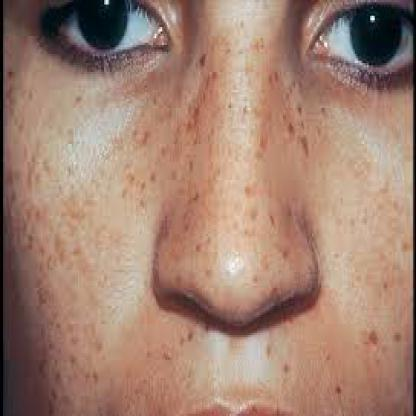darkspot: (193, 32, 309, 284), (23, 157, 101, 414), (124, 119, 188, 232), (4, 68, 40, 119), (263, 338, 292, 376), (361, 324, 408, 344), (174, 328, 193, 344)
